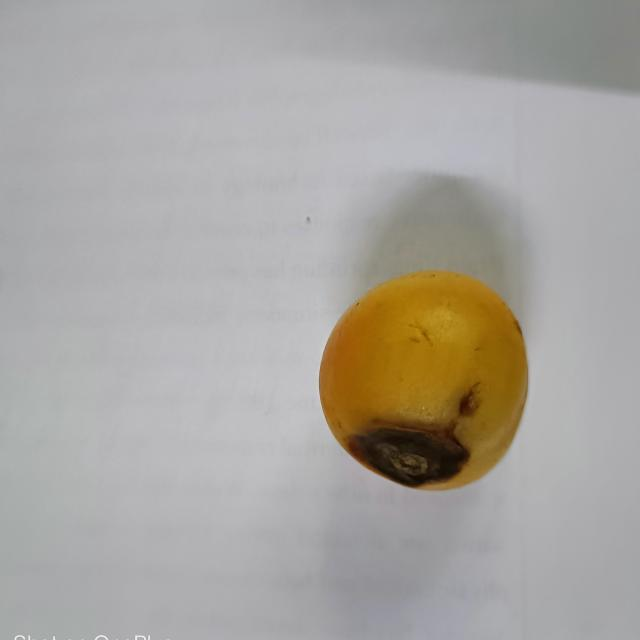Anthrocnose: (337, 378, 483, 486)
